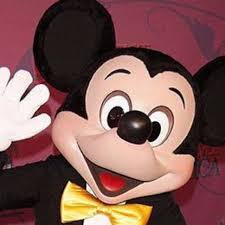mickey: (1, 1, 225, 225)
